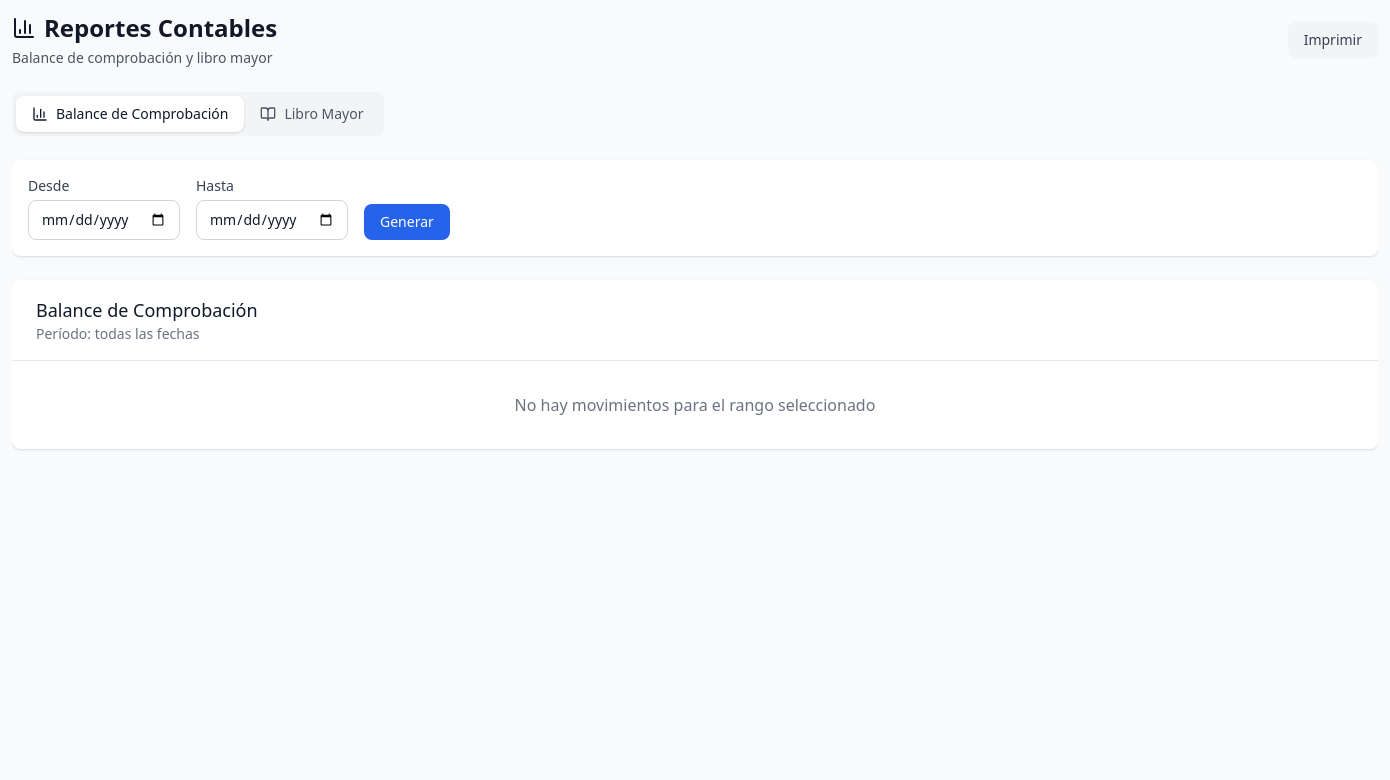
Test: ReportingPage › renders trial balance tab by default
Click the button "Generar".
click(407, 222)  # box [364,204,450,240]
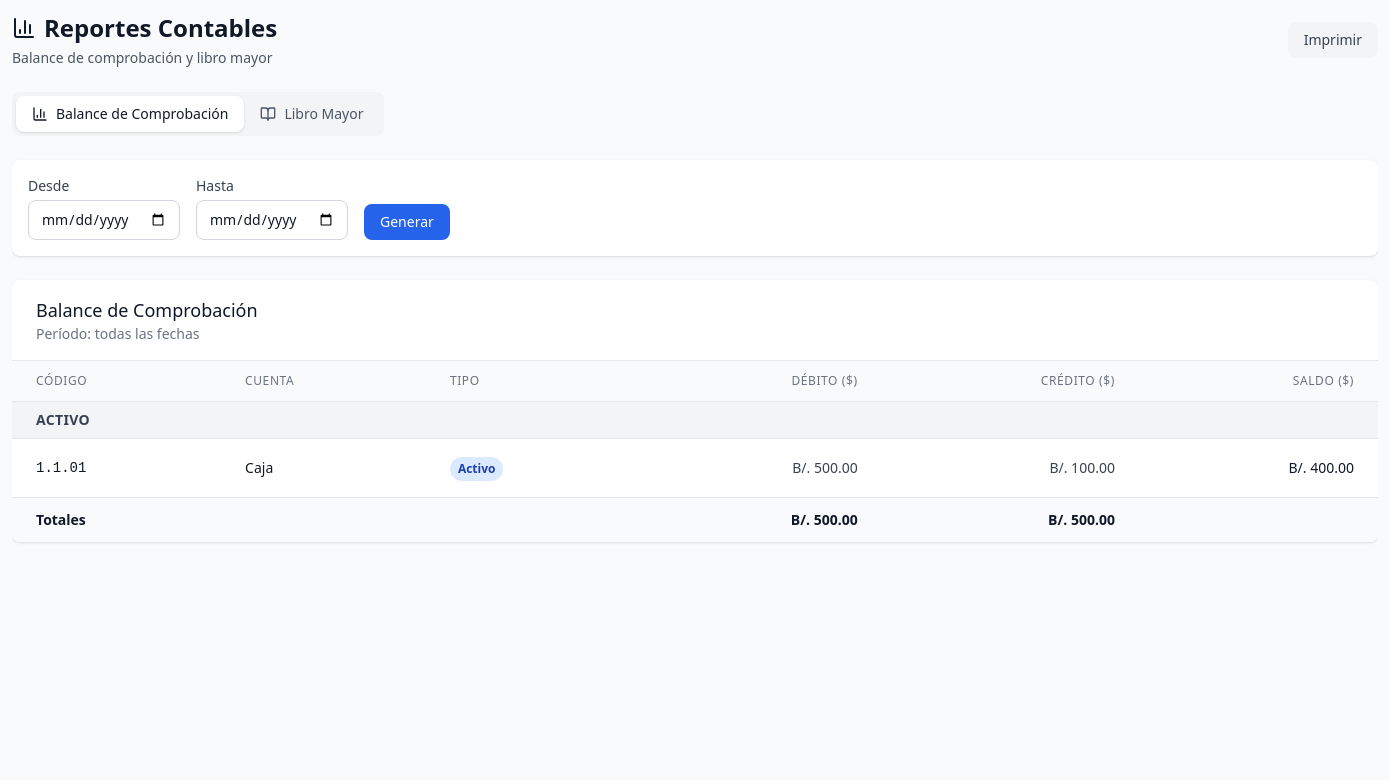
expect the text "Caja" is shown: met, box [221,438,426,498]
expect the text "1.1.01" is shown: met, box [12,438,221,498]
